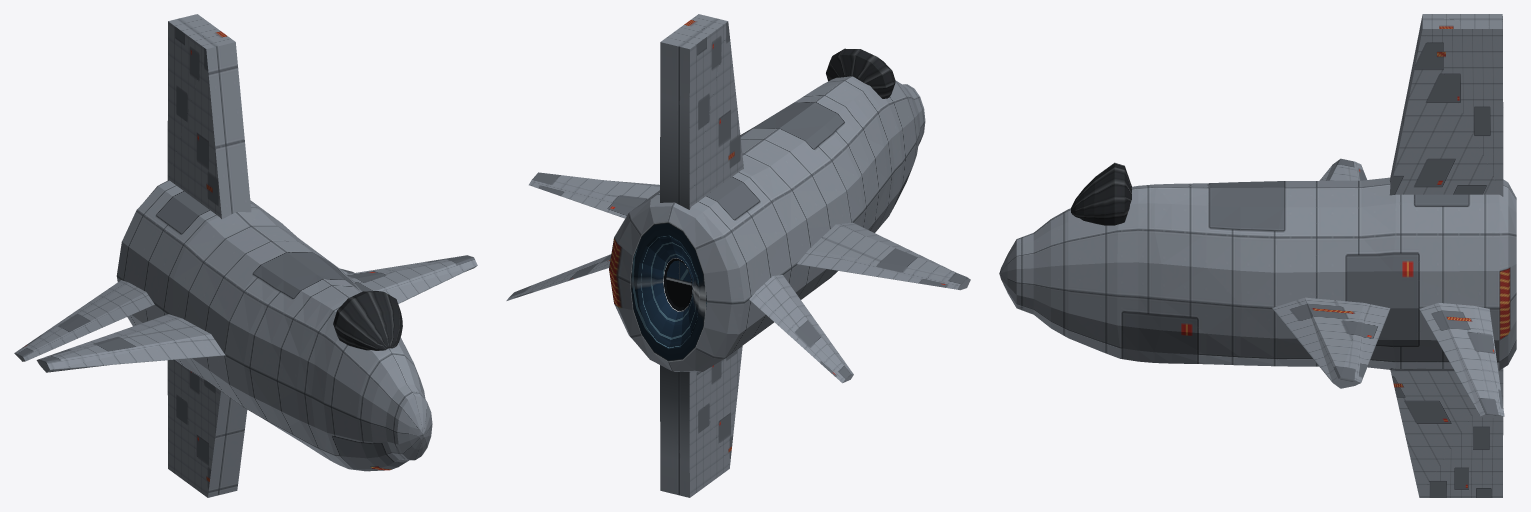
File: MIN_PFL_X15_Hypersonic.obj
3 renders of one model, left to right at view 1: azimuth 30°, elevation 25°; view 2: azimuth 150°, elevation 25°; view 3: azimuth 270°, elevation 25°, orthographic. The views are drawn at different scales.
Visible parts, largest first — view 1: MIN_PFL_X15_Hypersonic; view 2: MIN_PFL_X15_Hypersonic; view 3: MIN_PFL_X15_Hypersonic.
Part boxes in pixels (box(x1,y1,x2,y2)): MIN_PFL_X15_Hypersonic: box(14, 14, 477, 497); MIN_PFL_X15_Hypersonic: box(506, 14, 970, 497); MIN_PFL_X15_Hypersonic: box(999, 14, 1516, 497).
Size of the model in its own units: 1 by 1 by 1.
Materials: 1 (1 with a texture image).
